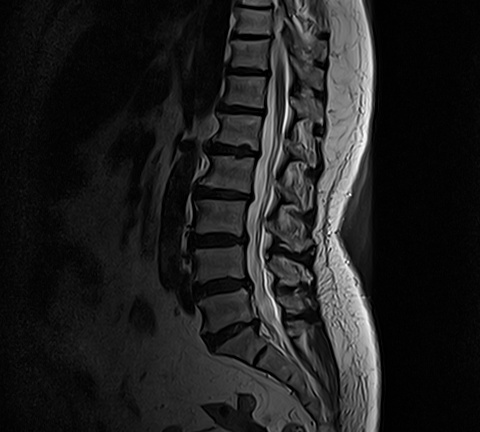L1,v2: (216, 114, 267, 143)
L1-L2,v2: (216, 136, 267, 165)
L1-L2,v5: (216, 136, 267, 165)
L2,v2: (207, 160, 258, 189)
L2-L3,v2: (201, 179, 252, 208)
L3,v2: (197, 201, 248, 230)
L3-L4,v3: (194, 224, 245, 253)
L4,v2: (192, 248, 243, 277)
L4-L5,v3: (194, 270, 245, 299)
L5,v2: (196, 295, 247, 324)
L5-S1,v4: (205, 317, 256, 346)
T12-L1,v2: (217, 94, 268, 123)
